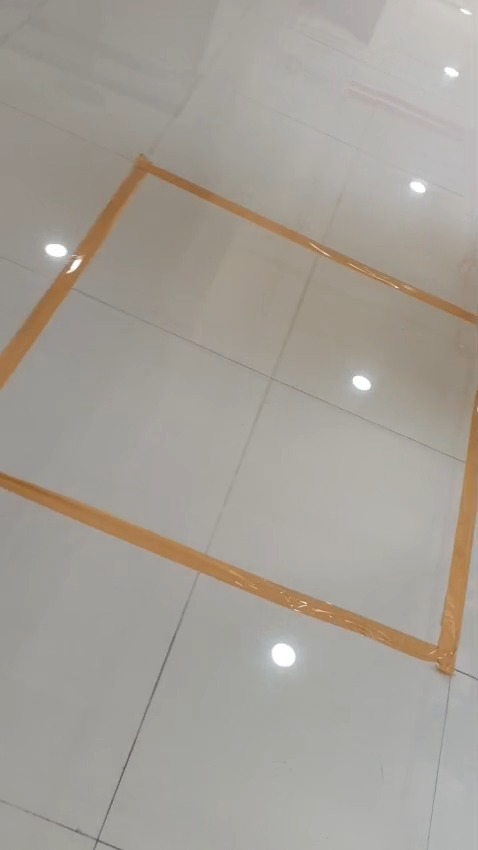floor marking: (1, 399, 476, 673), (0, 154, 473, 389)
